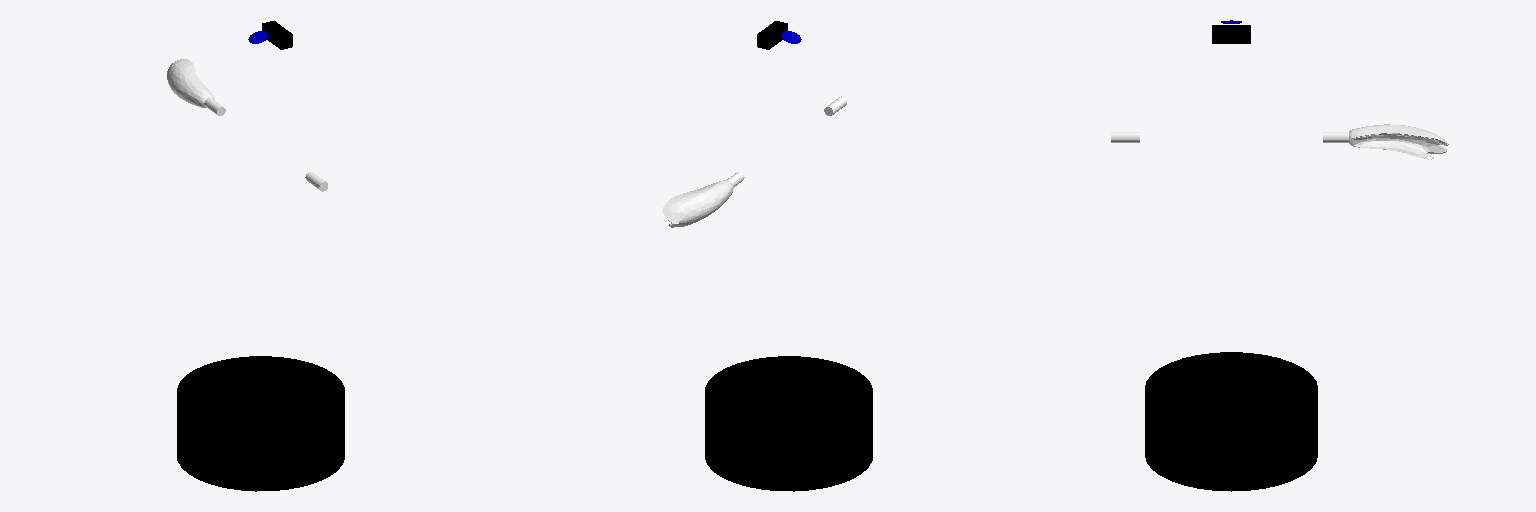
URDF robot description (quori):
<?xml version="1.0"?>
<robot name="quori">

<material name="blue">
    <color rgba="0 0 0.8 1"/>
  </material>
  <material name="black">
    <color rgba="0 0 0 1"/>
  </material>
  <material name="white">
    <color rgba="1 1 1 1"/>
  </material>

  <link name="base_link">
    <visual>
      <origin xyz="0 0 0.1013587" rpy="0 0 0" />
      <geometry>
        <cylinder length="0.2027174" radius="0.2413"/>
      </geometry>
      <material name="black"/>
    </visual>
  </link>

   <link name="lower_torso">
    <visual>
      <origin rpy="0 0 -1.57079632679" xyz="0.02 0 -0.2007174"/>
      <geometry>
        <mesh filename="package://quori_description/meshes/180915_Lower Torso.dae"/>
      </geometry>
    </visual>
  </link>

  <joint name="turret_joint" type="revolute">
    <origin xyz="0 0 0.2027174" rpy="0 0 0"/>
    <parent link="base_link"/>
    <child link="lower_torso"/>
    <axis xyz="0 0 1" />
    <limit lower="-3.14" upper="3.14" effort="1" velocity="3"/>
  </joint>

   <link name="upper_torso">
    <visual>
      <origin rpy="0 0 -1.57079632679" xyz="0.02 0 -0.5476974"/>
      <geometry>
        <mesh filename="package://quori_description/meshes/0917_Upper Torso+Waist.dae"/>
      </geometry>
    </visual>
  </link>

   <joint name="waist_hinge" type="revolute">
    <origin xyz="0 0 0.34798" rpy="0 0 0"/>
    <parent link="lower_torso"/>
    <child link="upper_torso"/>
    <axis xyz="0 1 0" />
    <limit lower="-0.26" upper="0.52" effort="1" velocity="3"/>
  </joint>

  <link name="right_arm_base">
  </link>

  <joint name="right_arm_r1" type="revolute">
    <origin xyz="0.015 -0.16403066 0.43021758" rpy="0 0 0"/>
    <parent link="upper_torso"/>
    <child link="right_arm_base"/>
    <axis xyz="0 1 0" />
    <limit lower="-3.14" upper="3.14" effort="1" velocity="3"/>
  </joint>

  <link name="right_arm_upper">
    <visual>
      <origin rpy="-1.57079632679 0 0" xyz="0.165 -0.9765 -0.137"/>
      <geometry>
        <mesh filename="package://quori_description/meshes/0917_Upper Arm+gear_right.dae"/>
      </geometry>
    </visual>
  </link>

  <joint name="right_arm_r2" type="revolute">
    <origin xyz="0 0 0" rpy="0 0 0"/>
    <parent link="right_arm_base"/>
    <child link="right_arm_upper"/>
    <axis xyz="0 0 1" />
    <limit lower="-1.1" upper="1.1" effort="1" velocity="3"/>
  </joint>

  <link name="right_arm_upper2lower">
    <visual>
    <origin rpy="-1.57079632679 0 0" xyz="0 -0.13 0"/>
      <geometry>
        <cylinder length="0.08" radius="0.015"/>
      </geometry>
      <material name="white"/>
    </visual>
  </link>

  <joint name="right_arm_upper2lower_j" type="fixed">
    <parent link="right_arm_upper"/>
    <child link="right_arm_upper2lower"/>
  </joint>

  <link name="right_arm_lower">
    <visual>
      <origin rpy="-1.57079632679 0 0.25" xyz="0.416 -0.73 -0.0005" />
      <geometry>
        <mesh filename="package://quori_description/meshes/0917_Lower Arm_right.dae" />
      </geometry>
    </visual>
  </link>

  <joint name="right_arm_lower_r1" type="revolute">
    <origin xyz="0 -0.15 0" rpy="0 0 0"/>
    <parent link="right_arm_upper"/>
    <child link="right_arm_lower"/>
    <axis xyz="0 1 0" />
    <limit lower="-3.14" upper="3.14" effort="1" velocity="3"/>
  </joint>


  <link name="left_arm_base">
  </link>

  <joint name="left_arm_r1" type="revolute">
    <origin xyz="0.015 0.16403066 0.43021758" rpy="0 0 0"/>
    <parent link="upper_torso"/>
    <child link="left_arm_base"/>
    <axis xyz="0 1 0" />
    <limit lower="-3.14" upper="3.14" effort="1" velocity="3"/>
  </joint>

  <link name="left_arm_upper">
    <visual>
      <origin rpy="-1.57079632679 0 -3.14" xyz="0.165 0.9765 -0.137"/>
      <geometry>
        <mesh filename="package://quori_description/meshes/0917_Upper Arm+gear_left.dae"/>
      </geometry>
    </visual>
  </link>

  <joint name="left_arm_r2" type="revolute">
    <origin xyz="0 0 0" rpy="0 0 0"/>
    <parent link="left_arm_base"/>
    <child link="left_arm_upper"/>
    <axis xyz="0 0 1" />
    <limit lower="-1.1" upper="1.1" effort="1" velocity="3"/>
  </joint>

  <link name="left_arm_upper2lower">
    <visual>
    <origin rpy="-1.57079632679 0 0" xyz="0 0.13 0"/>
      <geometry>
        <cylinder length="0.08" radius="0.015"/>
      </geometry>
      <material name="white"/>
    </visual>
  </link>

  <joint name="left_arm_upper2lower_j" type="fixed">
    <parent link="left_arm_upper"/>
    <child link="left_arm_upper2lower"/>
  </joint>

  <link name="left_arm_lower">
    <visual>
      <origin rpy="1.57079632679 3.1416 -0.25" xyz="0.416 0.73 0.0005"/>
      <geometry>
        <mesh filename="package://quori_description/meshes/0917_Lower_Arm_left.dae" />
      </geometry>
    </visual>
  </link>

  <joint name="left_arm_lower_r1" type="revolute">
    <origin xyz="0 0.15 0" rpy="0 0 0"/>
    <parent link="left_arm_upper"/>
    <child link="left_arm_lower"/>
    <axis xyz="0 1 0" />
    <limit lower="-1.1" upper="1.1" effort="1" velocity="3"/>
  </joint>

  <link name="head">
    <visual>
      <origin rpy="0 0 -1.57079632679" xyz="0.01 0 -1.11" />
      <geometry>
        <mesh filename="package://quori_description/meshes/0917_Helmet_Duripod.dae" />
      </geometry>
    </visual>
  </link>

  <joint name="head_joint" type="fixed">
    <origin xyz="0 0 0.554" rpy="0 0 0" />
    <parent link="upper_torso" />
    <child link="head" />
  </joint>


  <link name="head_camera">
    <visual>
      <geometry>
        <box size="0.04 0.11 0.04"/>
      </geometry>
      <origin rpy="0 0 0" xyz="0 0 -0"/>
      <material name="black"/>
    </visual>
  </link>

  <joint name="head_Camera_joint" type="fixed">
    <origin xyz="0.055 0 0.21" rpy="0 0 0" />
    <parent link="head" />
    <child link="head_camera" />
  </joint>

   <link name="head_mic">
    <visual>
      <geometry>
        <cylinder length="0.002" radius="0.03"/>
      </geometry>
      <origin rpy="0 0 0" xyz="0 0 -0"/>
      <material name="blue"/>
    </visual>
  </link>

  <joint name="head_Mic_joint" type="fixed">
    <origin xyz="-0.008 0 0.218" rpy="0 -.3 0" />
    <parent link="head" />
    <child link="head_mic" />
</joint>

</robot>

--- Render facts (derived) ---
Views: 3 orthographic renders of the robot side by side, from view 1: azimuth 30°, elevation 25°; view 2: azimuth 150°, elevation 25°; view 3: azimuth 270°, elevation 25°.
Robot: quori — 14 links, 13 joints (8 revolute, 5 fixed); root link base_link; default pose: all joints at 0.
Links seen in each view (by area): view 1: base_link, left_arm_lower, head_camera; view 2: base_link, left_arm_lower, head_camera; view 3: base_link, left_arm_lower, head_camera.
Boxes of the visible links, box(x1,y1,x2,y2) form: base_link: box(177, 356, 344, 491); left_arm_lower: box(167, 59, 214, 107); head_camera: box(262, 21, 292, 49); base_link: box(705, 356, 872, 491); left_arm_lower: box(663, 180, 733, 227); head_camera: box(757, 21, 787, 49); base_link: box(1145, 352, 1317, 491); left_arm_lower: box(1349, 124, 1448, 159); head_camera: box(1212, 25, 1250, 43).
Size in the robot's own frame: 0.4826 by 0.9375 by 1.33 metres.
Meshes: 7 distinct files referenced, 1 mesh visuals loaded (1 Collada DAE); not drawn: 6 (reference not matched to a file when rendering).